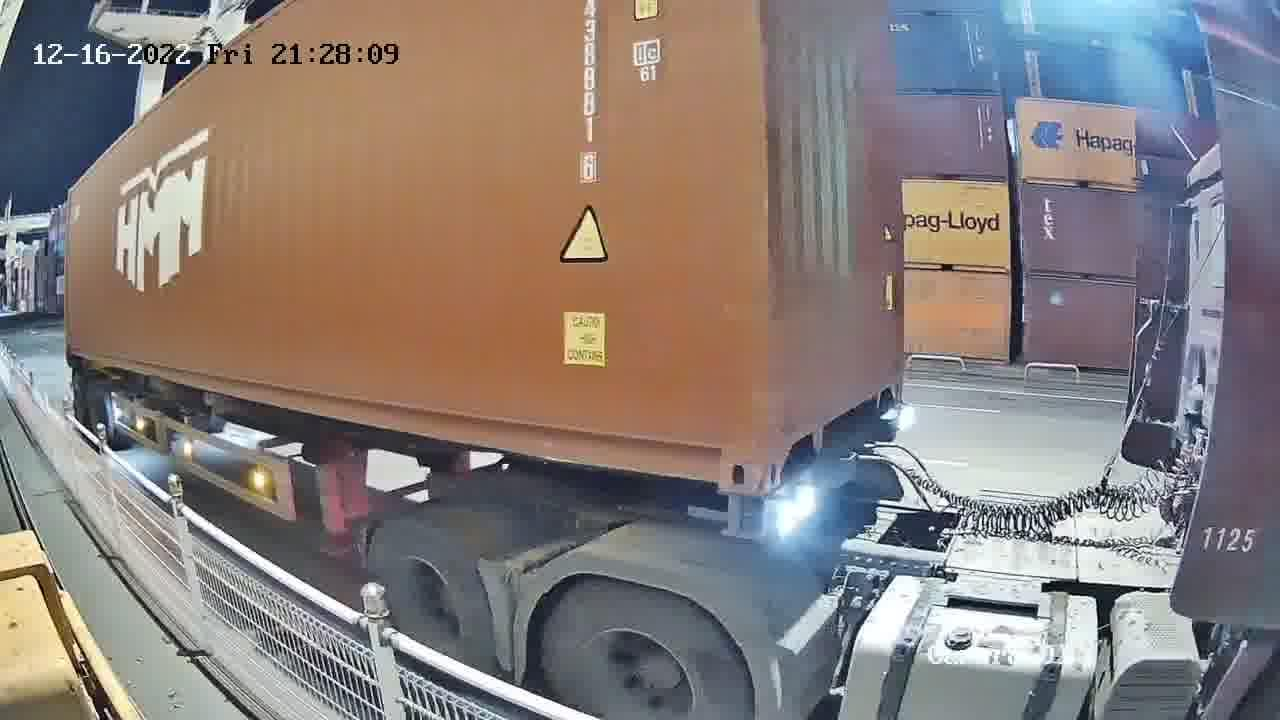Chassis: (770, 405, 904, 538)
Cone: (720, 495, 762, 540)
Hole_L: (764, 416, 806, 497)
Hole_R: (668, 415, 766, 493), (875, 356, 907, 419)
Tire: (540, 580, 750, 719), (366, 523, 495, 671)
